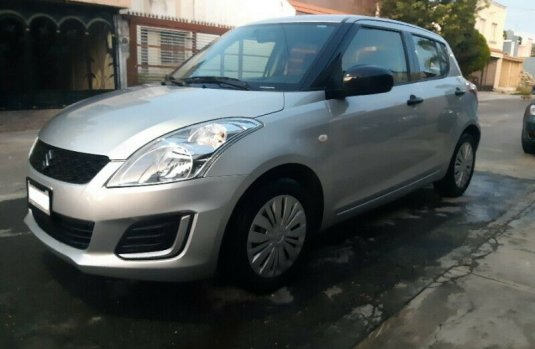Automovil: (19, 6, 491, 273)
